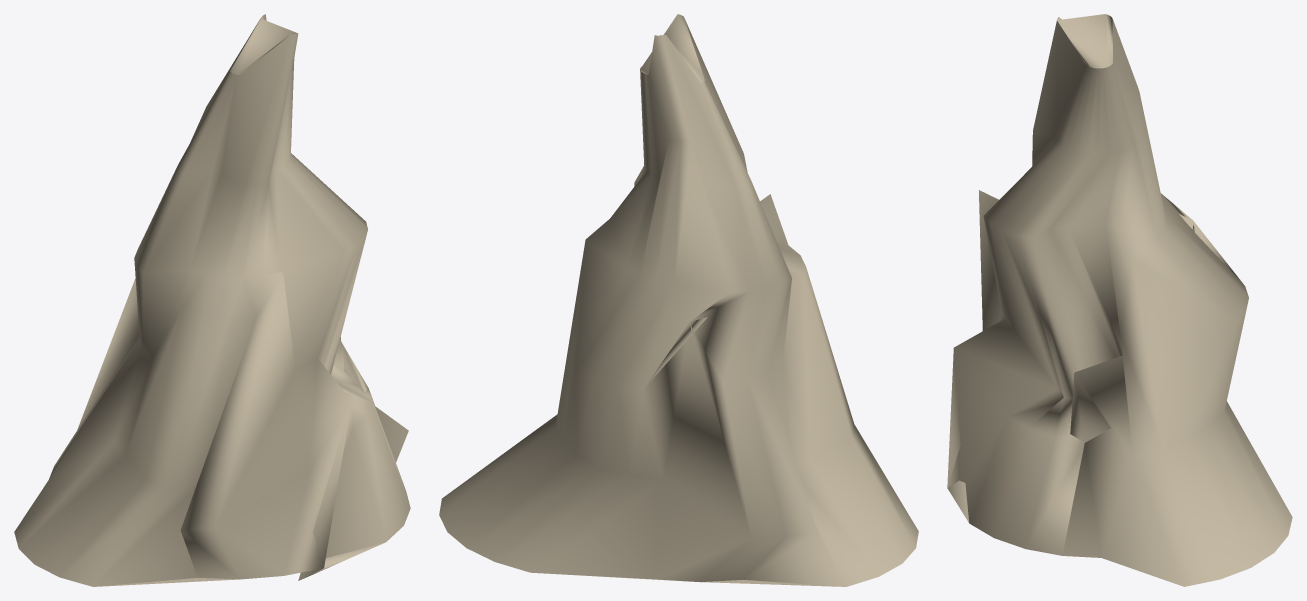
Rendered from айсберг_1.FBX.
The picture shows the model from 3 angles, left to right: view 1: azimuth 30°, elevation 25°; view 2: azimuth 150°, elevation 25°; view 3: azimuth 270°, elevation 25°; orthographic projection.
Visible parts, largest first — view 1: Cone008; view 2: Cone008; view 3: Cone008.
Part boxes in pixels (left/top/right/bottom): Cone008: left=14, top=14, right=410, bottom=586; Cone008: left=439, top=14, right=918, bottom=586; Cone008: left=947, top=14, right=1292, bottom=586.
Bounding box in the file's own units: 132 × 150 × 94.55.
